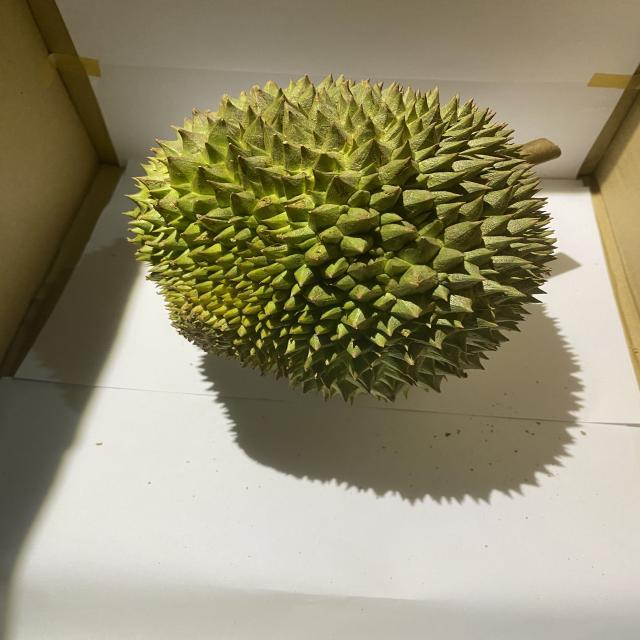immature: (123, 73, 559, 405)
